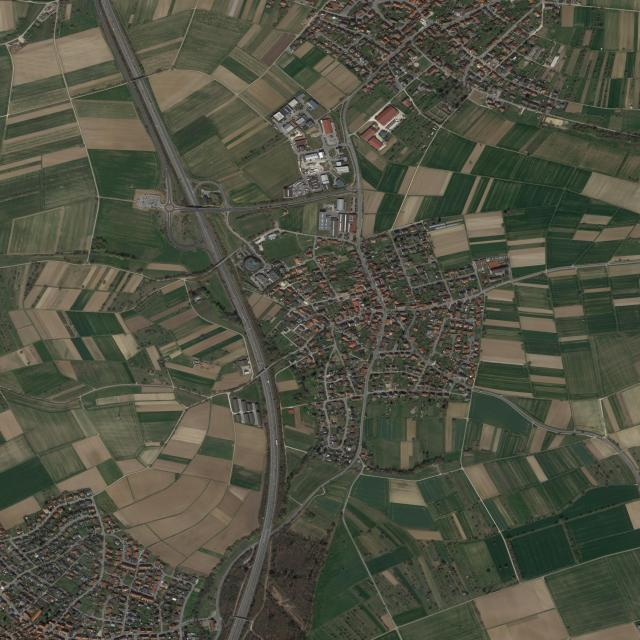storage-tank: (381, 131, 387, 136)
